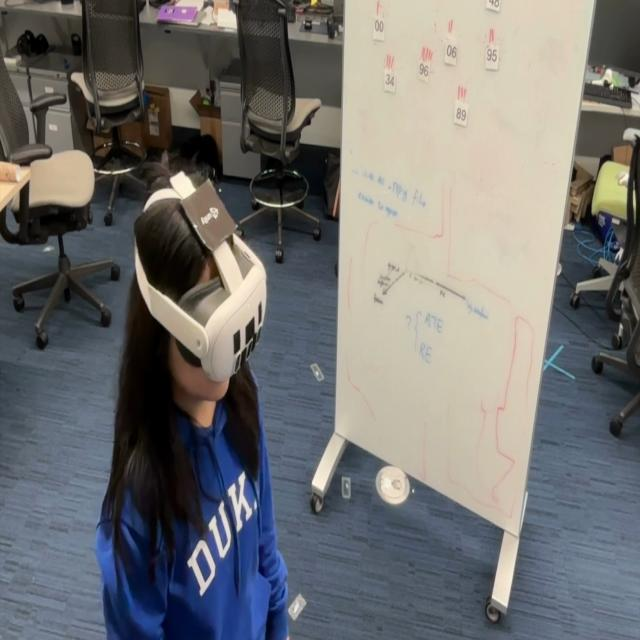Headset: (132, 180, 268, 384)
UnityLogo: (178, 174, 238, 256)
